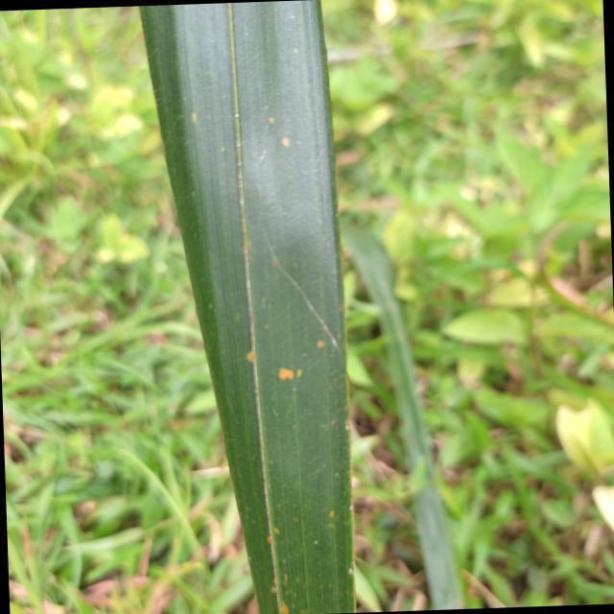Boron: (141, 5, 353, 614)
